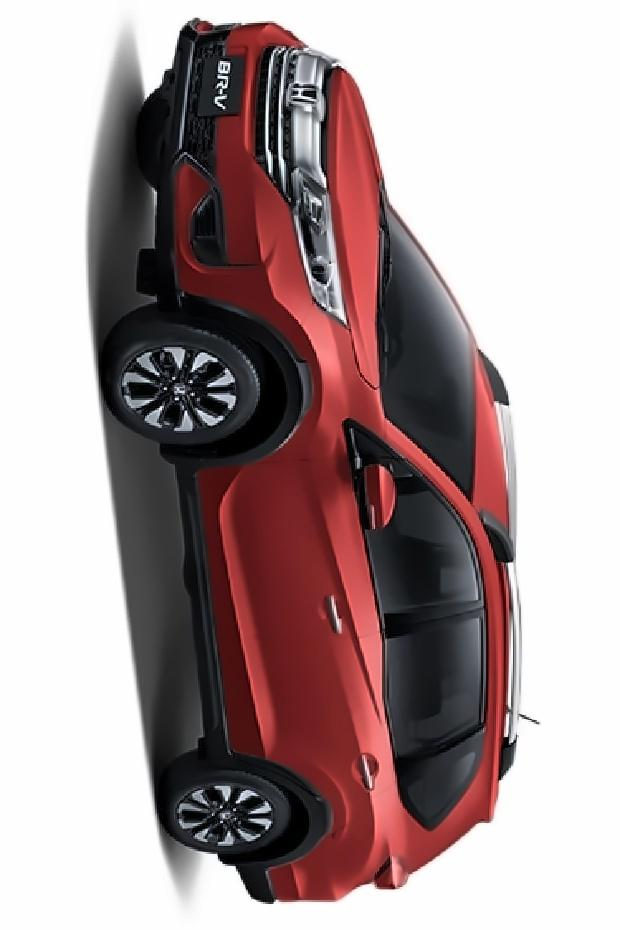Car hood: (317, 56, 389, 395)
Fender - -F-L-: (180, 299, 392, 464)
Fender - -R-L-: (293, 808, 402, 891)
Front bumper: (149, 11, 300, 355)
Headlight - -L-: (284, 162, 357, 339)
Passenger-s door - -F-L-: (191, 464, 499, 636)
Passenger-s door - -R-L-: (211, 634, 499, 825)
Rear bumper: (198, 837, 339, 919)
Rear light - -L-: (366, 849, 418, 898)
Side bumper - -L-: (170, 442, 235, 777)
Side mirror - -L-: (346, 456, 405, 538)
